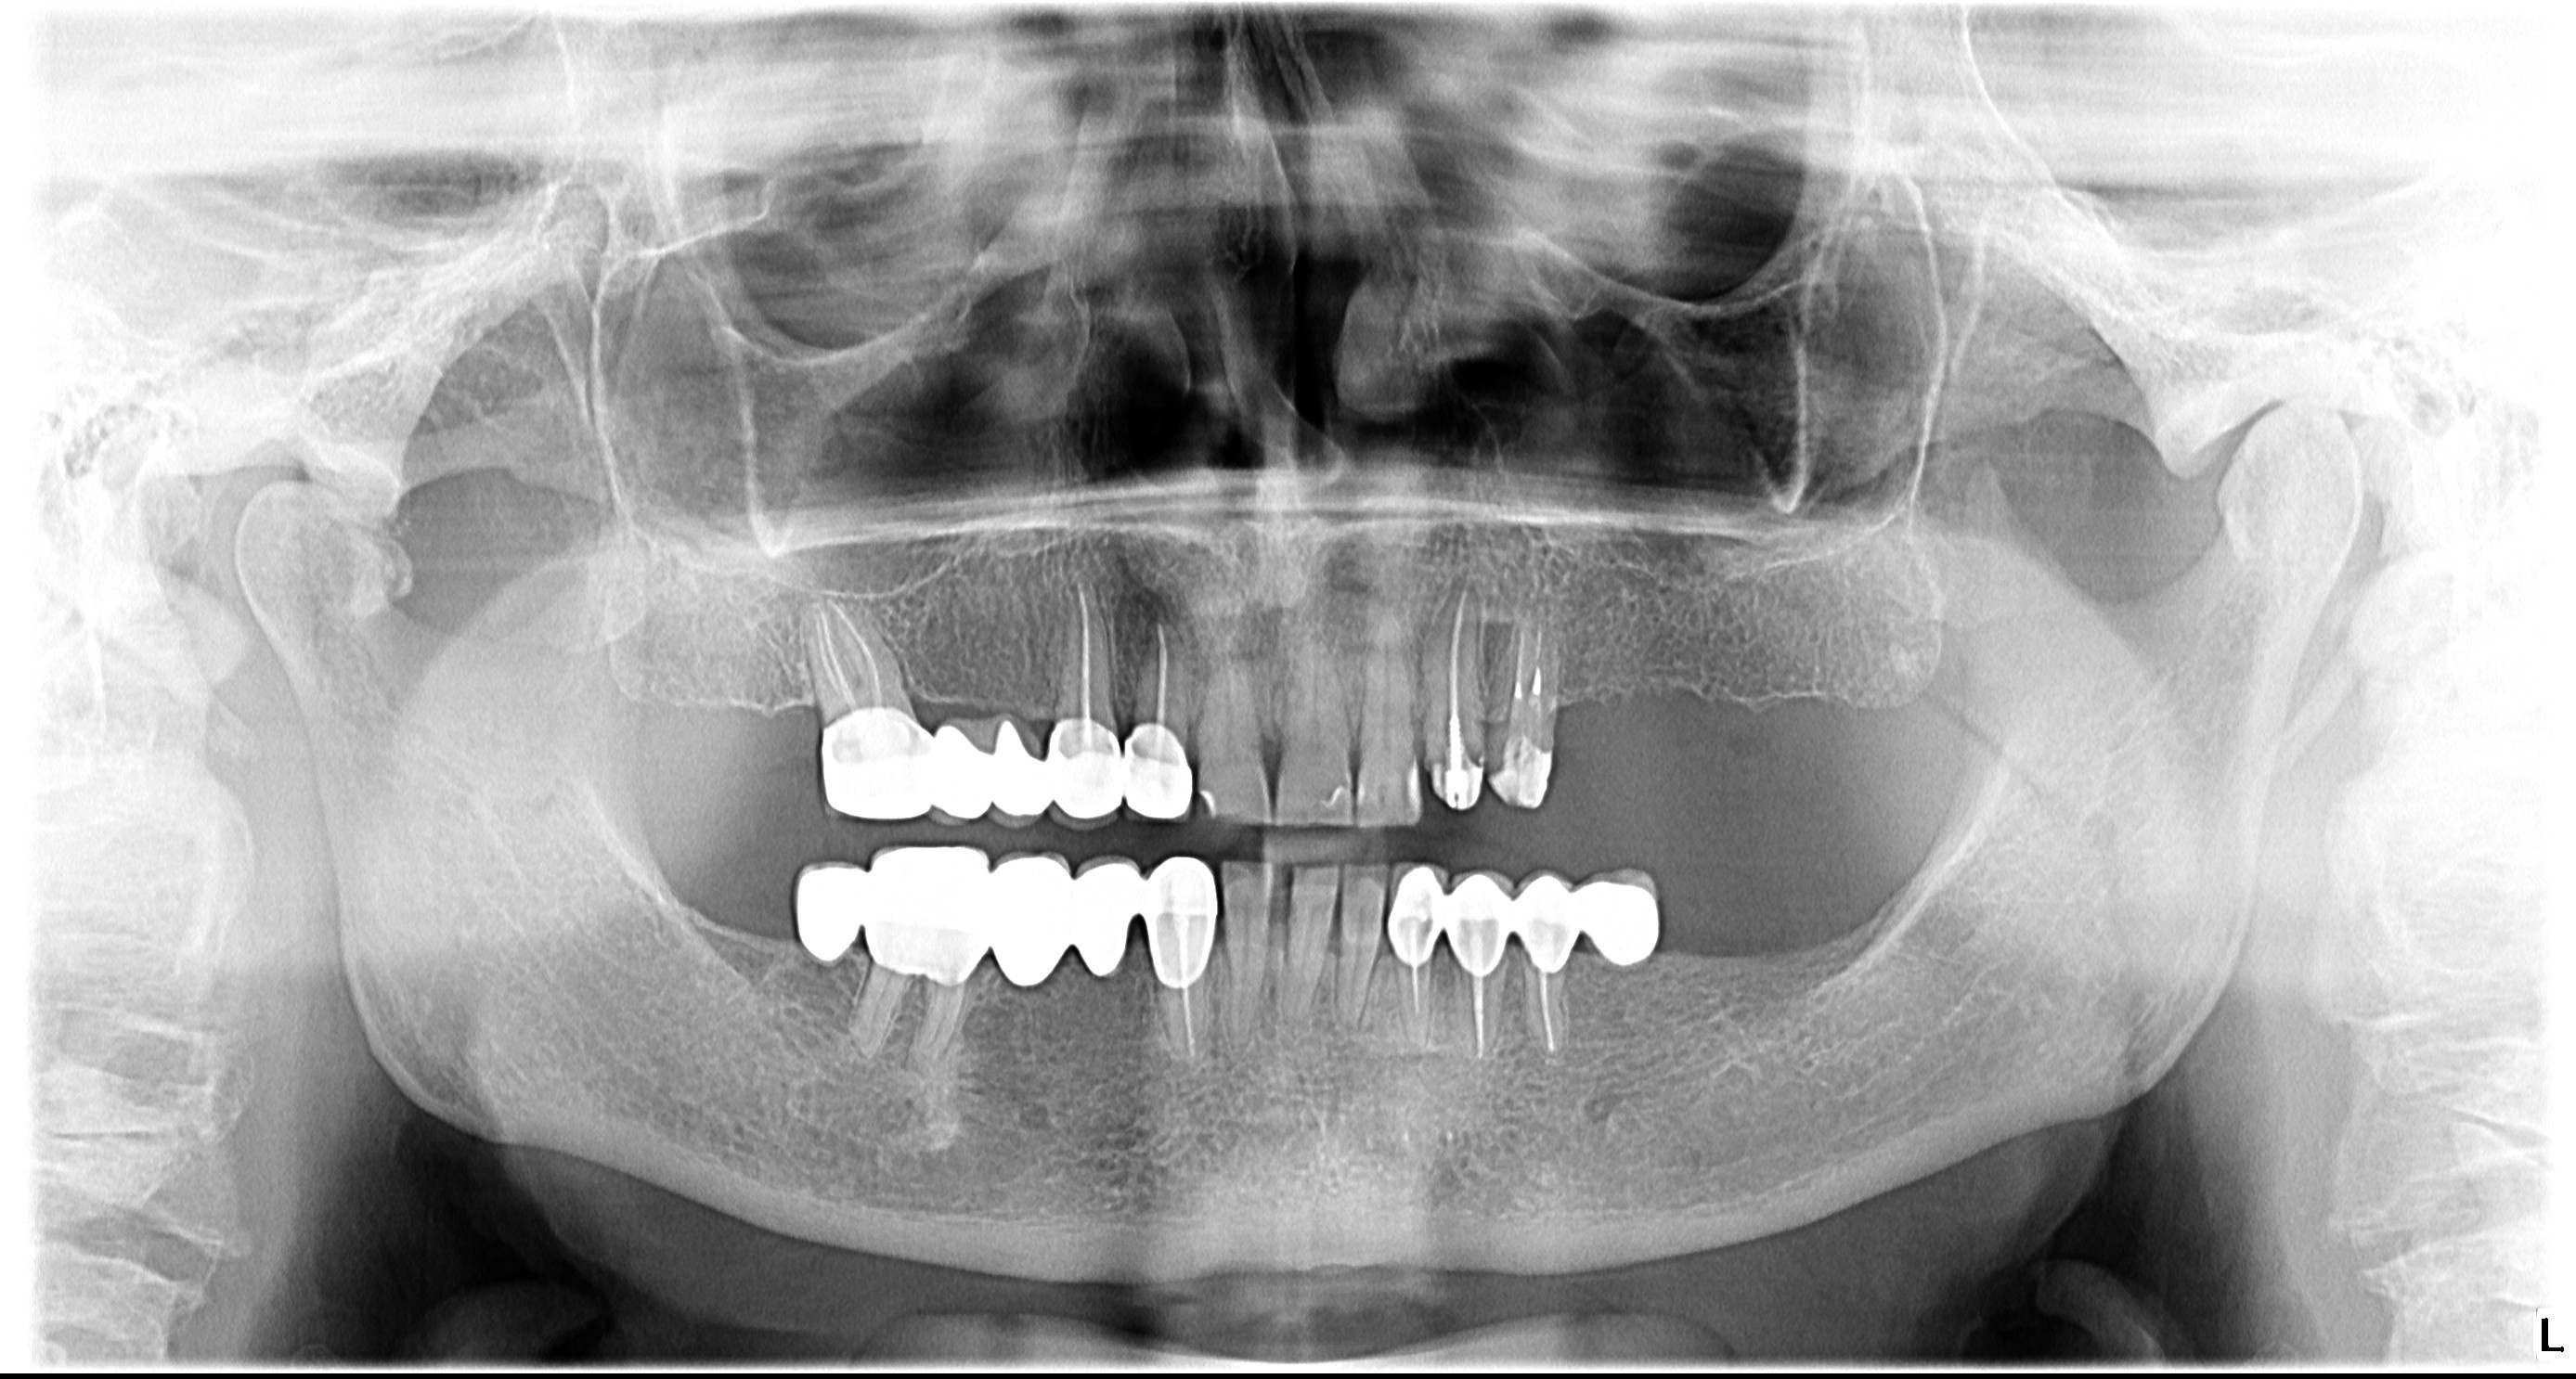END: (789, 582, 901, 710), (1504, 586, 1561, 744), (1056, 570, 1114, 712), (1440, 569, 1481, 768), (1140, 606, 1189, 727), (1392, 950, 1438, 1054), (1164, 965, 1208, 1069), (1458, 965, 1503, 1066), (1525, 960, 1569, 1059)
IMT: (889, 669, 942, 715)
OBT: (785, 836, 1215, 987), (799, 703, 1198, 833), (1392, 846, 1659, 977)
PRR: (1489, 729, 1545, 812), (1424, 742, 1486, 815), (1322, 770, 1353, 829), (1402, 754, 1428, 814), (1194, 783, 1227, 822)
